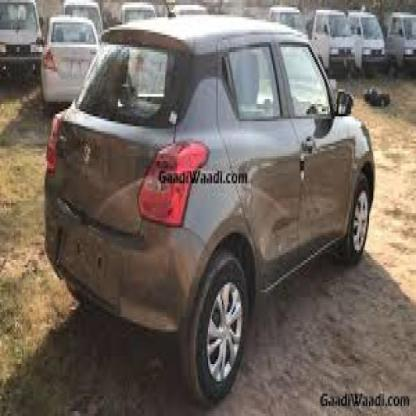car: (37, 9, 378, 405)
